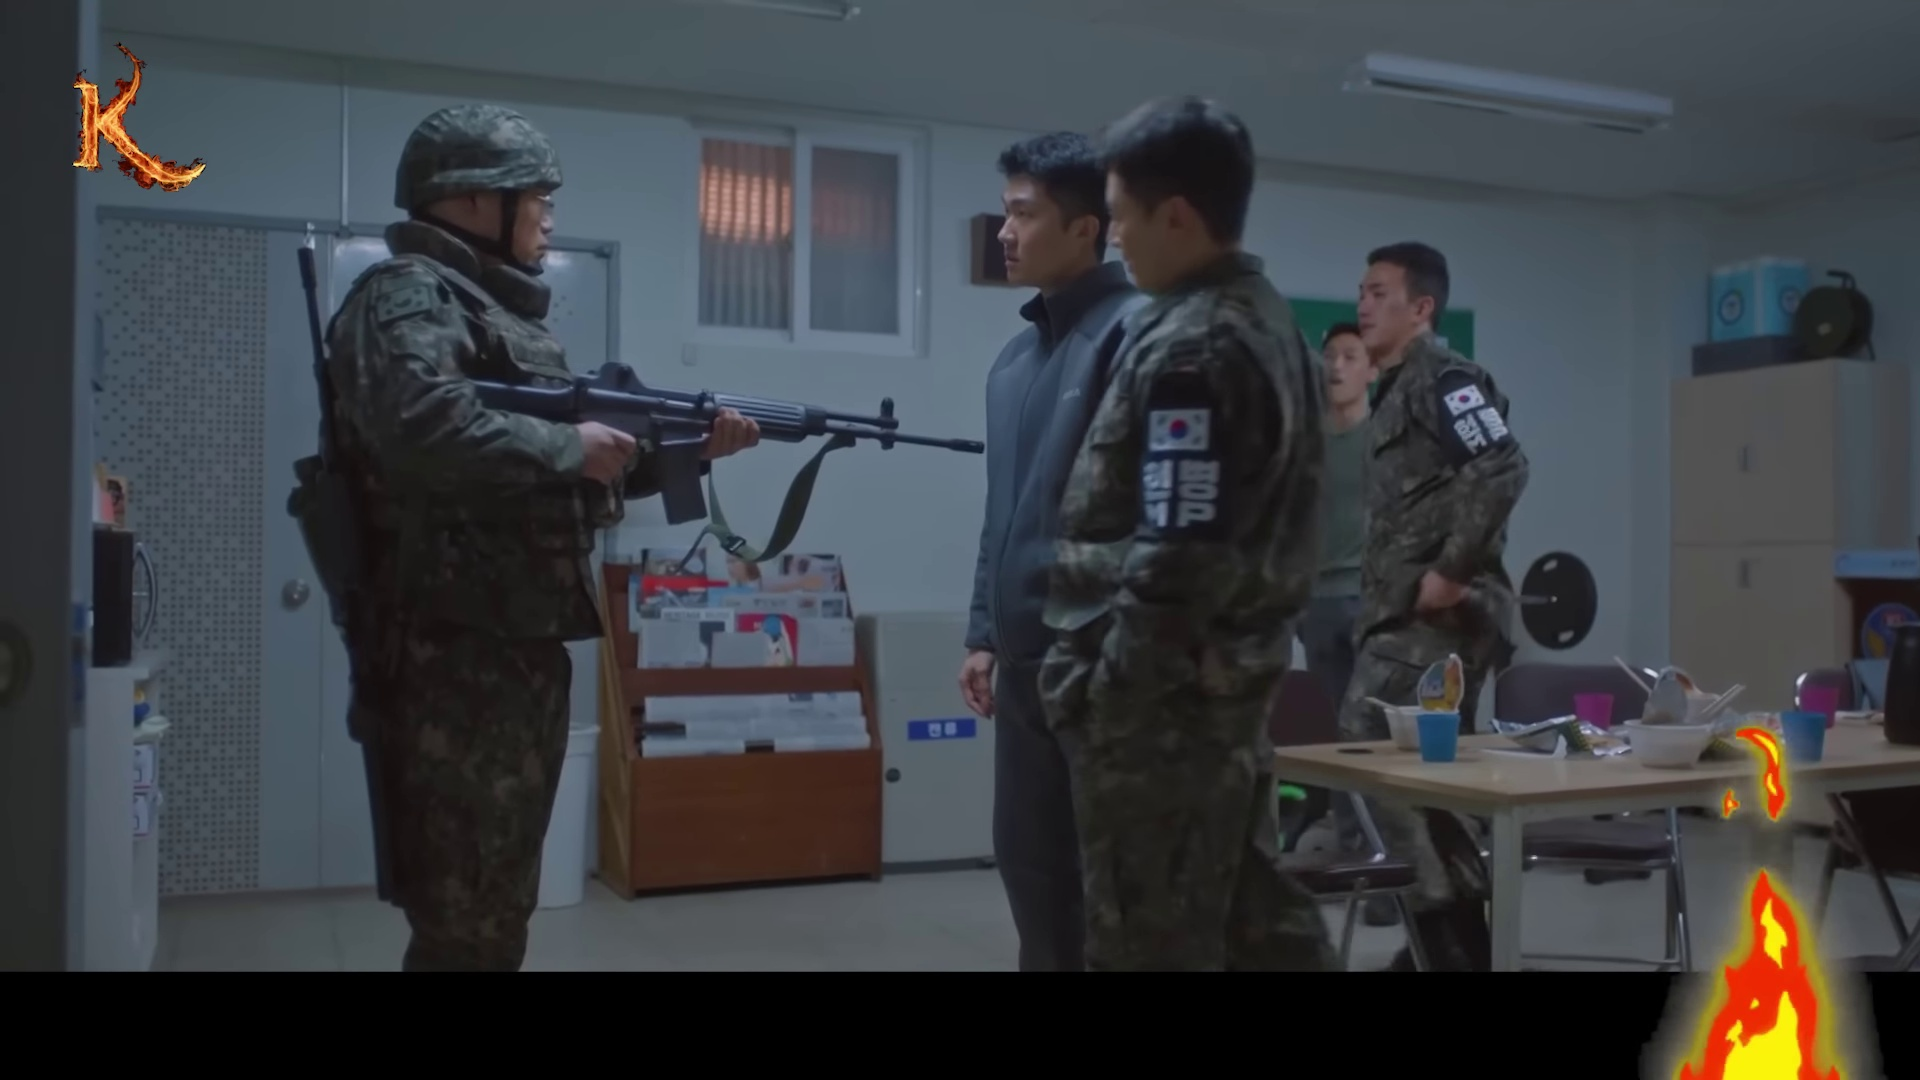gun: (430, 360, 986, 533)
p_w_gun: (278, 98, 988, 978)
p_wo_gun_not_carrying_normal_pose: (1033, 91, 1338, 967), (957, 125, 1153, 975), (1325, 229, 1534, 745)
